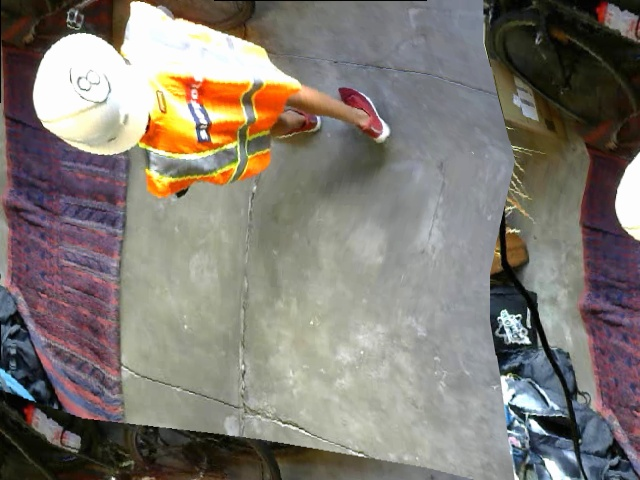eight: (65, 56, 115, 107)
